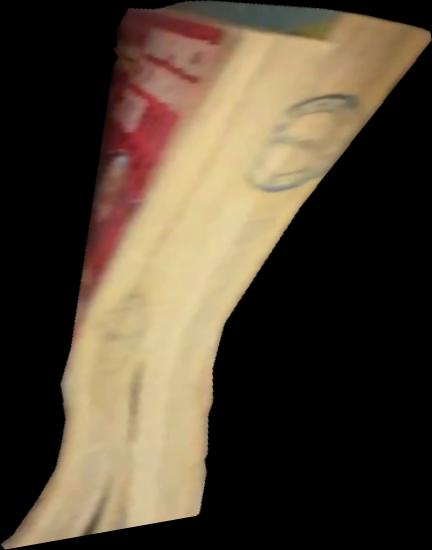backward: (1, 1, 432, 550)
